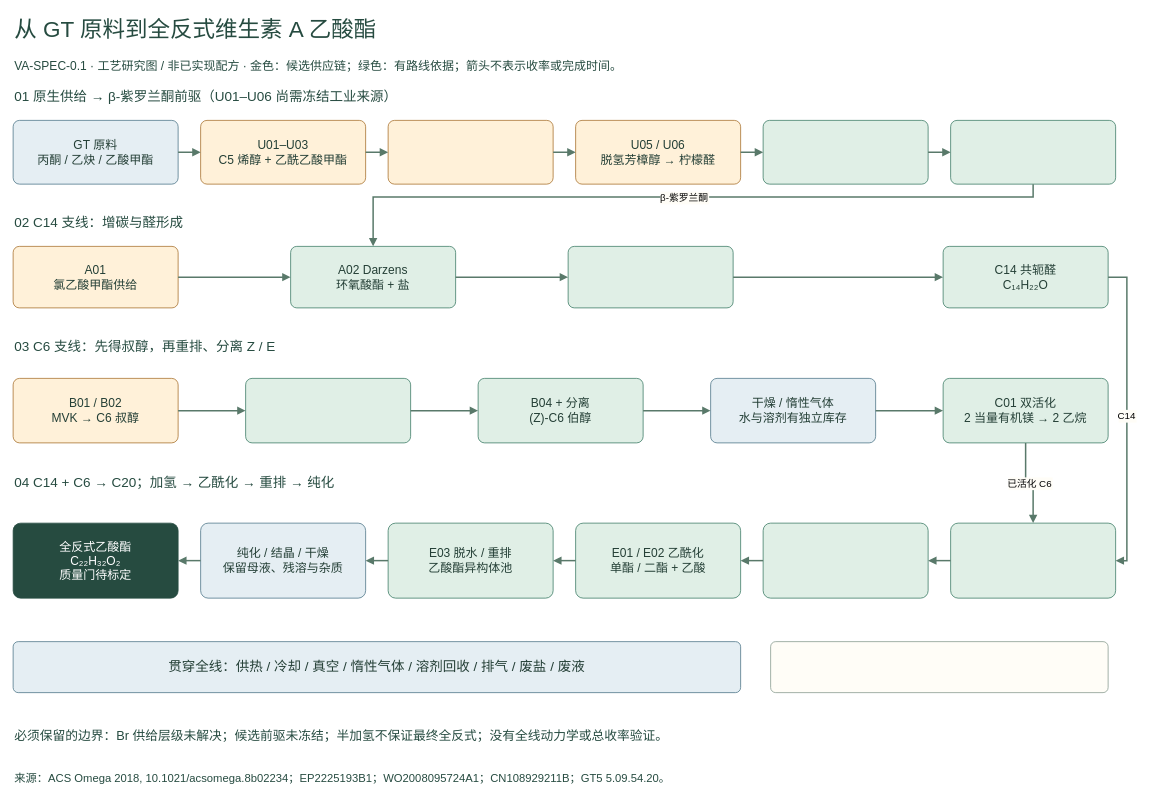
Some shapes in this 1150 by 804 pixel diagram are drawn without their labels. The shapes that lost their labels are listed below. From the top down, each one's box as (x1, y1, x2, y2) in pixels, then its label:
(387, 120, 553, 184): U04 Carroll C8 酮 + 甲醇 + CO₂
(762, 120, 928, 184): U07 羟醛 / 脱水 假紫罗兰酮
(950, 120, 1116, 184): U08 酸催化环化 β-紫罗兰酮 / α 异构体
(567, 246, 733, 308): A03 / A04 皂化 → 脱羧 / 重排
(245, 378, 411, 443): B03 烯丙基重排 伯烯炔醇混合物
(762, 522, 928, 598): D01 半加氢 Hydroxenin 过滤催化剂
(950, 522, 1116, 598): C02 / C03 偶联 / 后处理 C20 炔二醇
(770, 641, 1108, 693): F01 后续：视黄醇支线 第一版不实施
